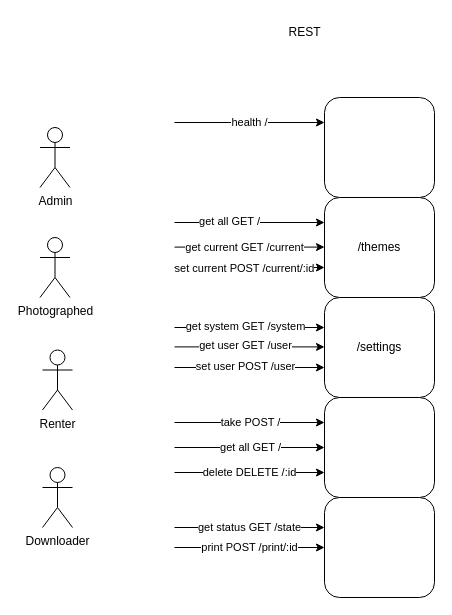
The diagram is 452 pixels wide and 615 high, and some of its shapes have lost their labels. Each missing label, with the box of its shape:
/photo: (324, 396, 434, 498)
/printer: (324, 496, 434, 598)
app: (324, 96, 434, 198)
